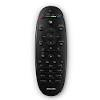remote control: (32, 6, 70, 100)
